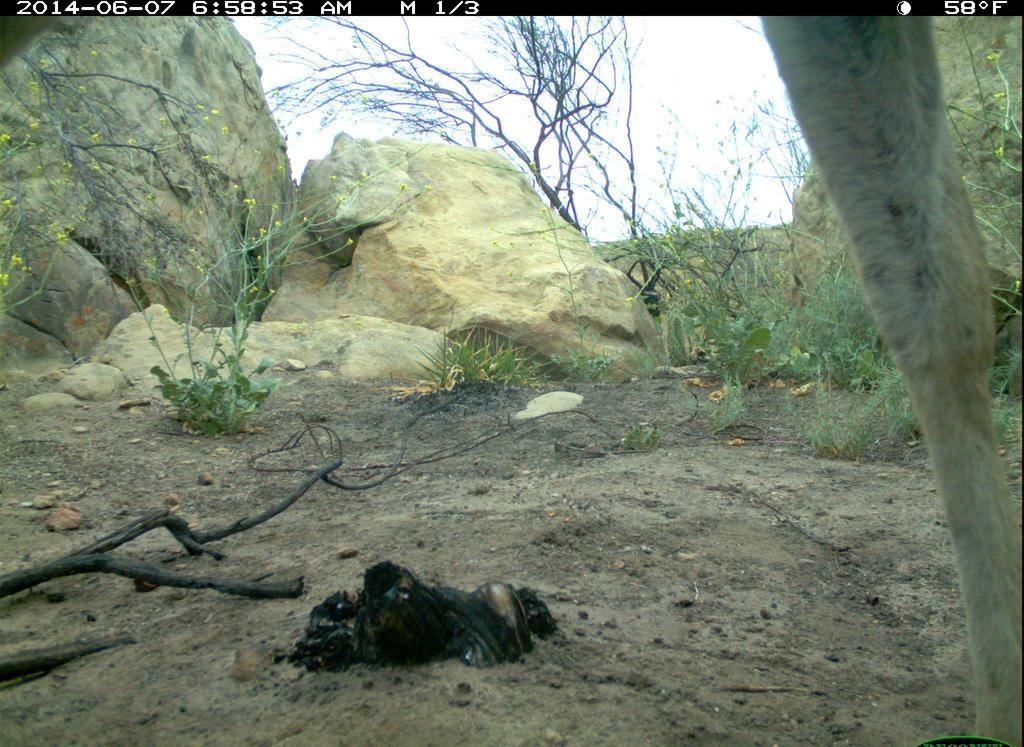deer: (749, 17, 1023, 747)
